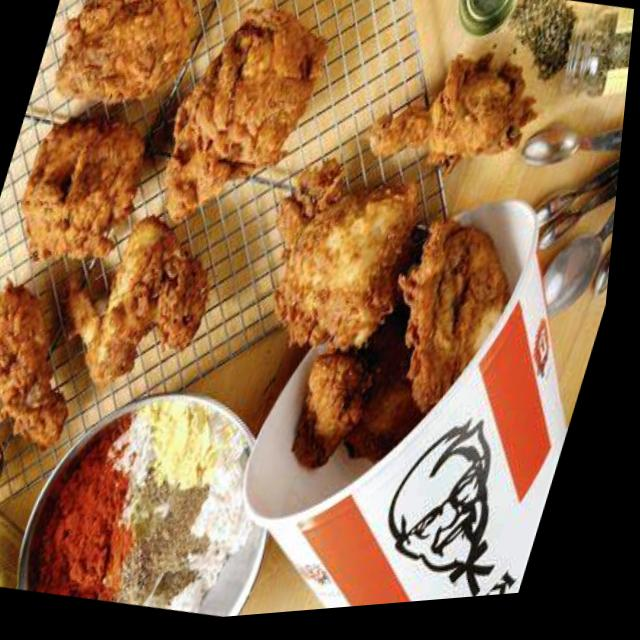fried_chicken: (144, 0, 339, 240), (245, 151, 436, 362), (30, 202, 231, 401), (370, 206, 548, 427), (362, 26, 554, 182), (6, 96, 160, 274), (0, 269, 107, 454), (47, 0, 208, 119), (335, 359, 459, 489), (277, 344, 384, 481)
